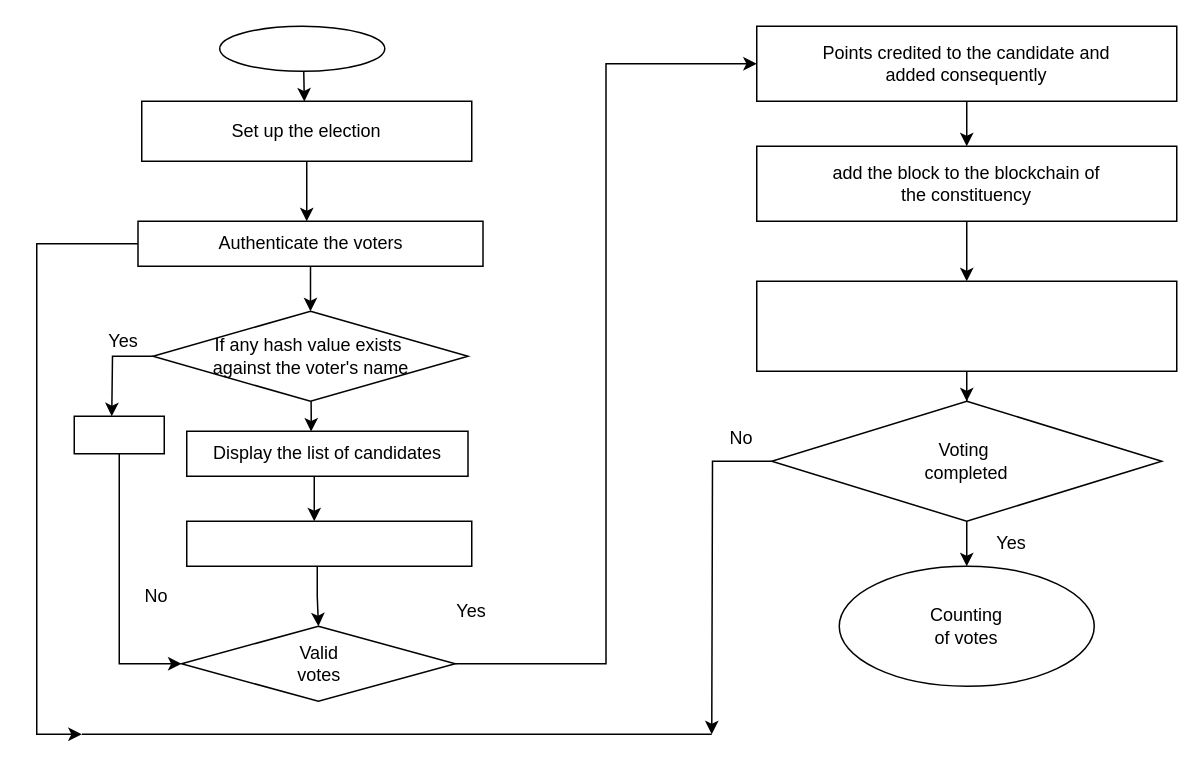
Some shapes in this 1203 by 773 pixel diagram are drawn without their labels. The shapes that lost their labels are listed below. From the top down, each one's centre as x and y in pixels, then its label:
[301,48]: start
[966,325]: Hash function generated against the voter's name
[118,434]: exit
[328,543]: Vote the candidates of choice
